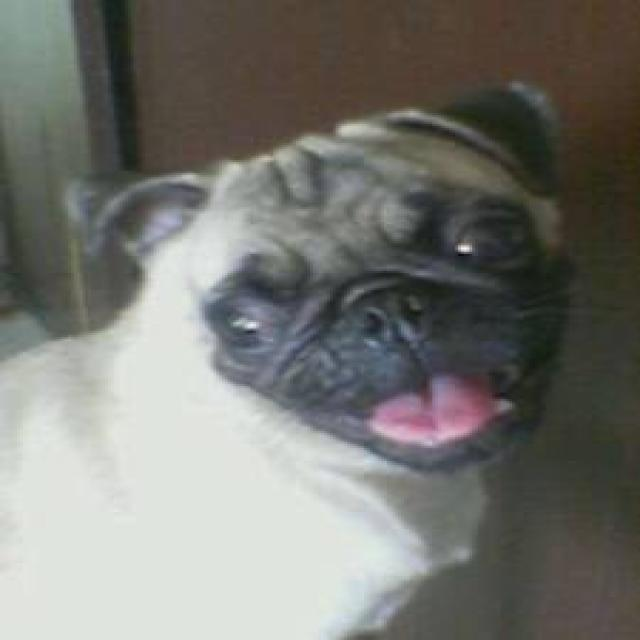dog-pug: (3, 79, 577, 636)
